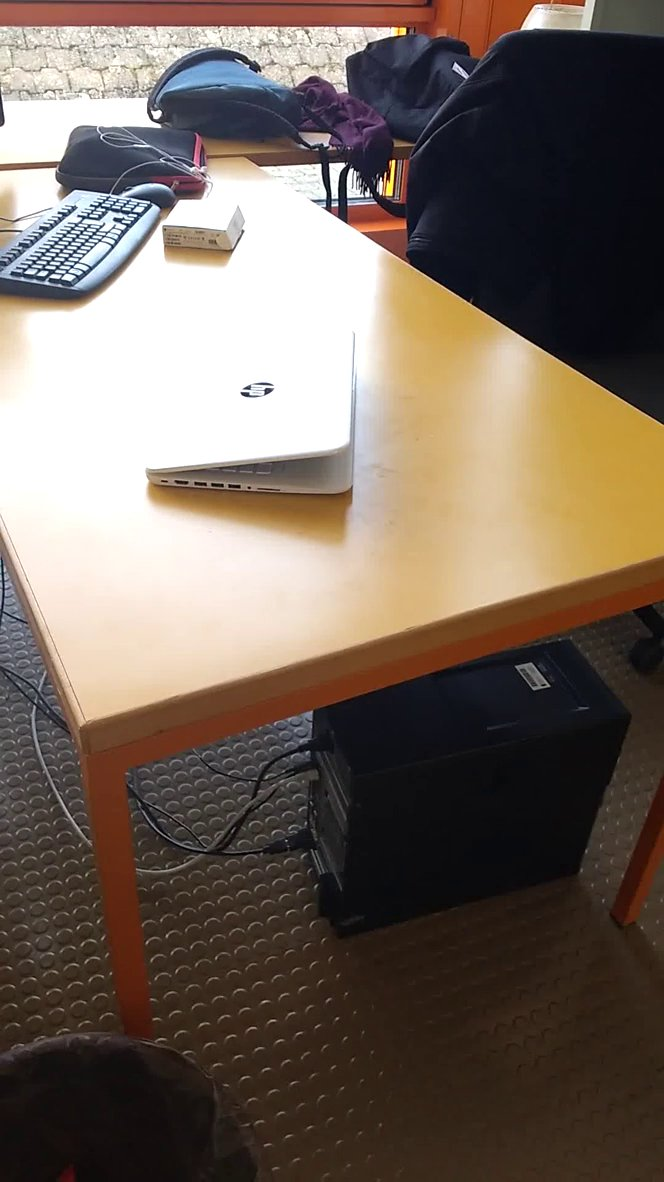bag: (129, 42, 325, 155), (340, 23, 513, 145)
laptop: (120, 306, 401, 526)
